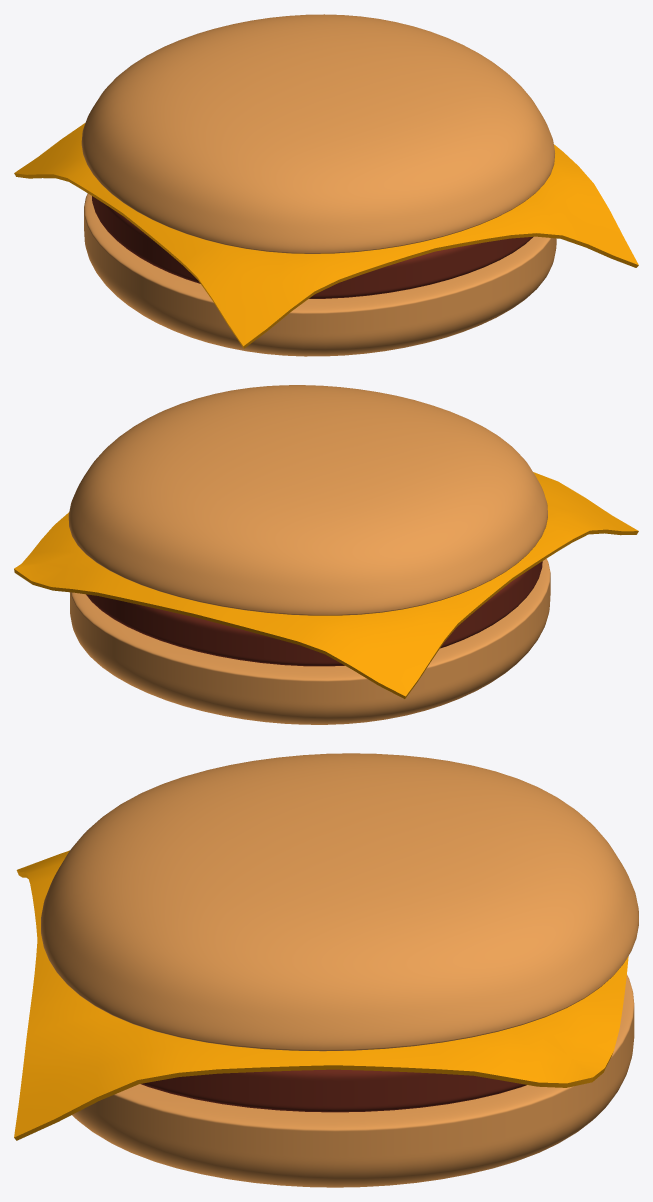
The model's file is hamburger2.glb.
3 renders of one model, top to bottom at view 1: azimuth 30°, elevation 25°; view 2: azimuth 150°, elevation 25°; view 3: azimuth 270°, elevation 25°, orthographic. The views are drawn at different scales.
Visible parts, largest first — view 1: Cube.002, Plane, Cube, Cube.001; view 2: Cube.002, Cube, Plane, Cube.001; view 3: Cube.002, Cube, Plane, Cube.001.
Part boxes in pixels (x1,y1,x2,y2): Cube.002: (81, 14, 554, 253); Plane: (14, 123, 638, 348); Cube: (84, 193, 556, 356); Cube.001: (92, 196, 533, 298); Cube.002: (68, 385, 547, 615); Cube: (70, 558, 550, 724); Plane: (14, 472, 638, 698); Cube.001: (86, 561, 542, 666); Cube.002: (41, 753, 638, 1051); Cube: (72, 975, 634, 1187); Plane: (14, 850, 628, 1140); Cube.001: (141, 1069, 526, 1112).
Size of the model in its own units: 9.17 by 4.67 by 9.57.
